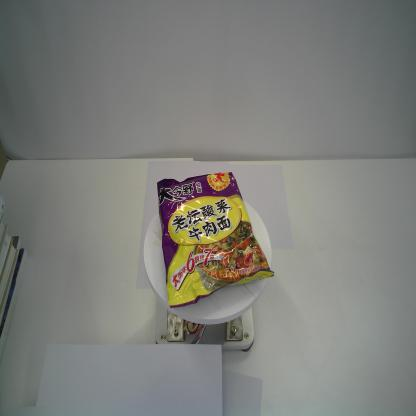Instant Noodles: (156, 170, 274, 311)
